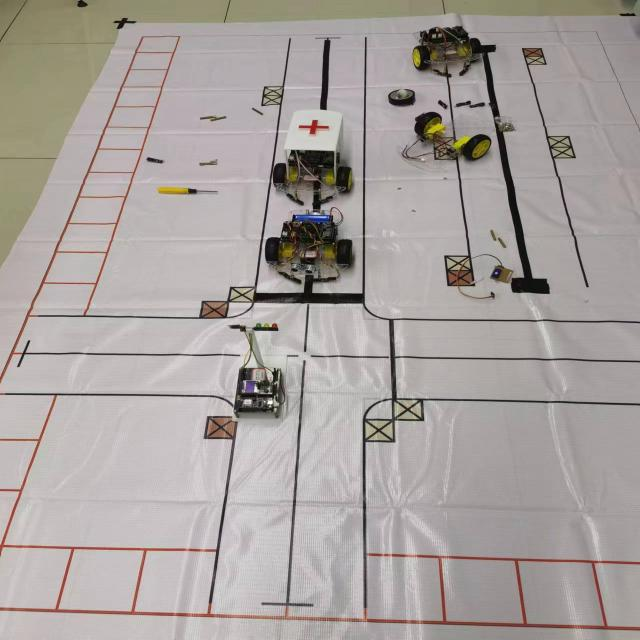RedCross: (296, 115, 332, 138)
